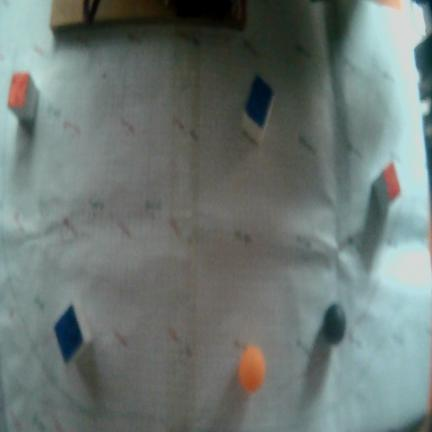circle_blue: (323, 305, 346, 346)
circle_orange: (238, 346, 266, 394)
rectangle_blue: (245, 79, 275, 131)
rectangle_orange: (383, 161, 400, 199)
square_blue: (54, 305, 84, 365)
square_orange: (6, 73, 31, 106)
